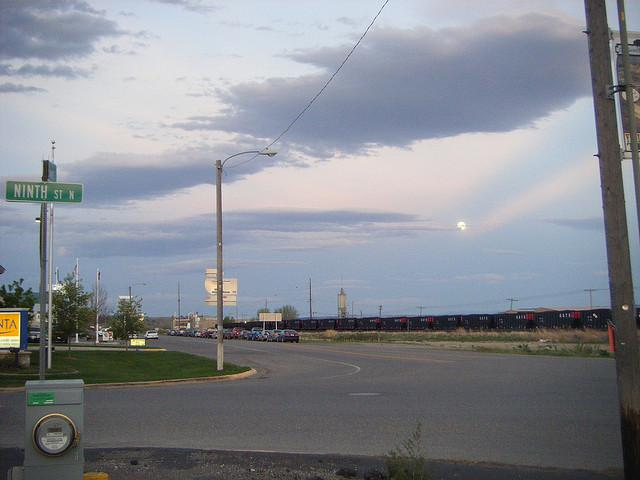Train: (215, 310, 613, 334)
